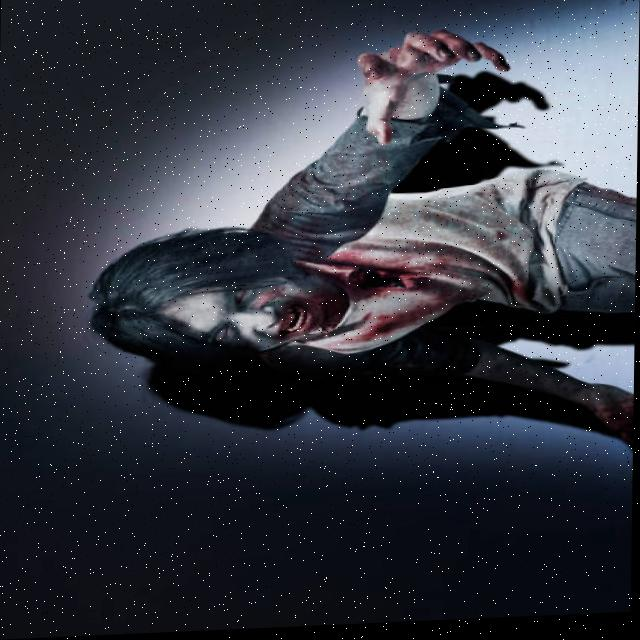Zombie: (173, 275, 326, 362)
